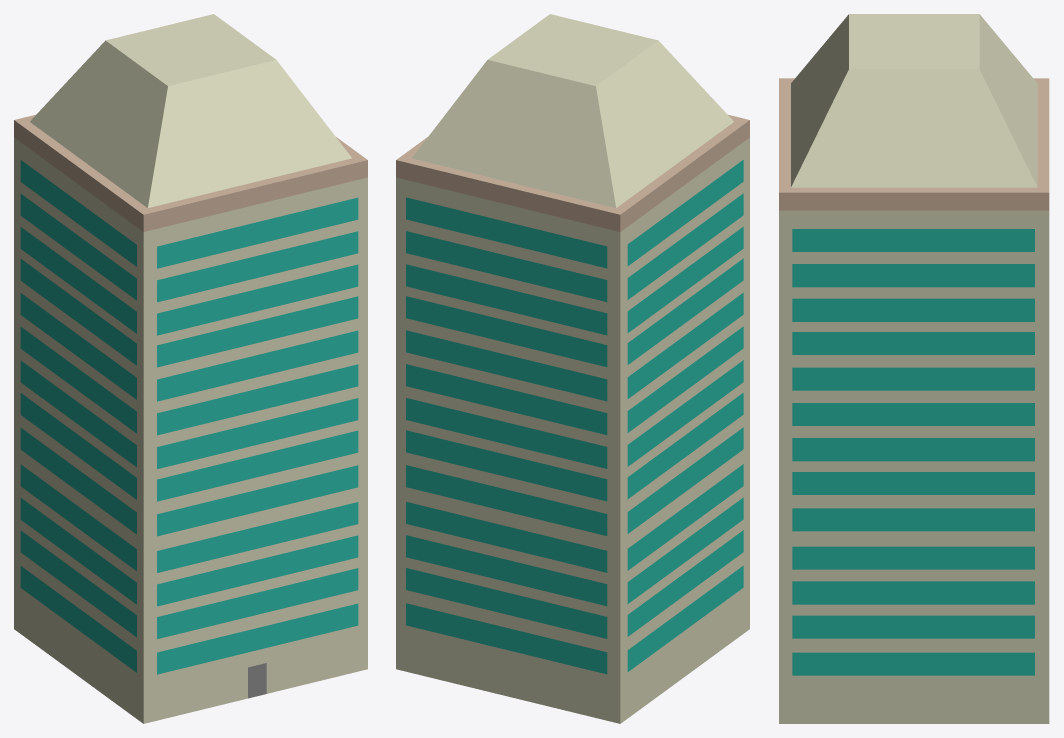
File: Skyscraper5.fbx
3 renders of one model, left to right at view 1: azimuth 30°, elevation 25°; view 2: azimuth 150°, elevation 25°; view 3: azimuth 270°, elevation 25°, orthographic. The views are drawn at different scales.
Visible parts, largest first — view 1: Skyscraper5; view 2: Skyscraper5; view 3: Skyscraper5.
Part boxes in pixels (bbox=[...]): Skyscraper5: bbox=[14, 14, 367, 723]; Skyscraper5: bbox=[396, 14, 749, 723]; Skyscraper5: bbox=[779, 14, 1049, 723].
Bounding box in the file's own units: 250 × 638 × 251.
